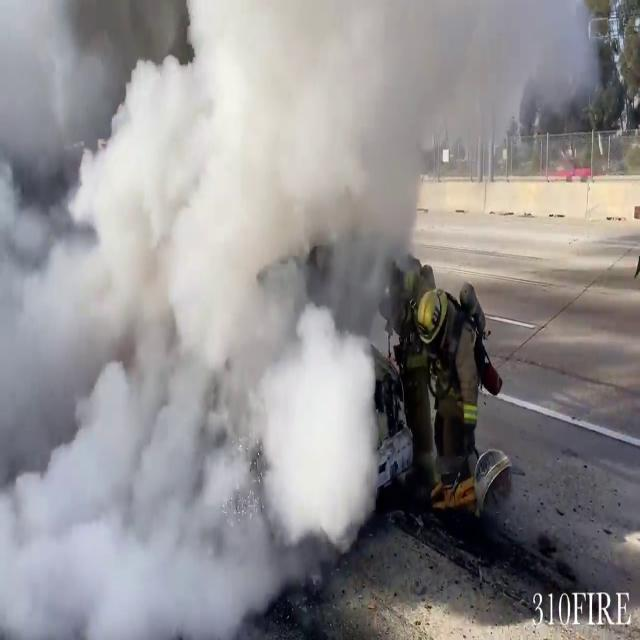Smoke: (0, 0, 464, 633)
